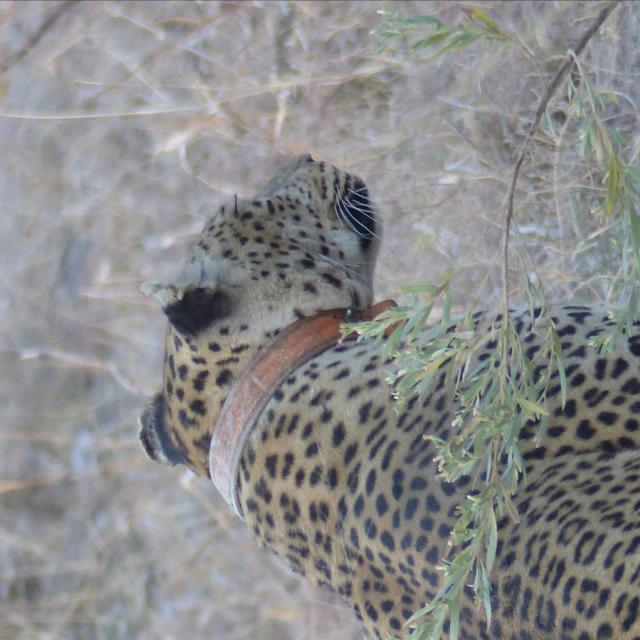Leopard: (0, 129, 501, 626)
